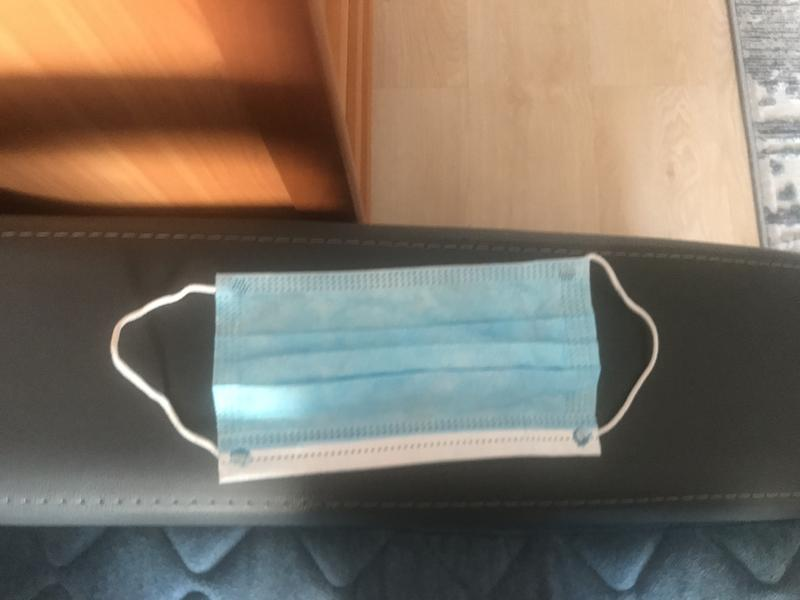medical_mask: (112, 253, 658, 484)
